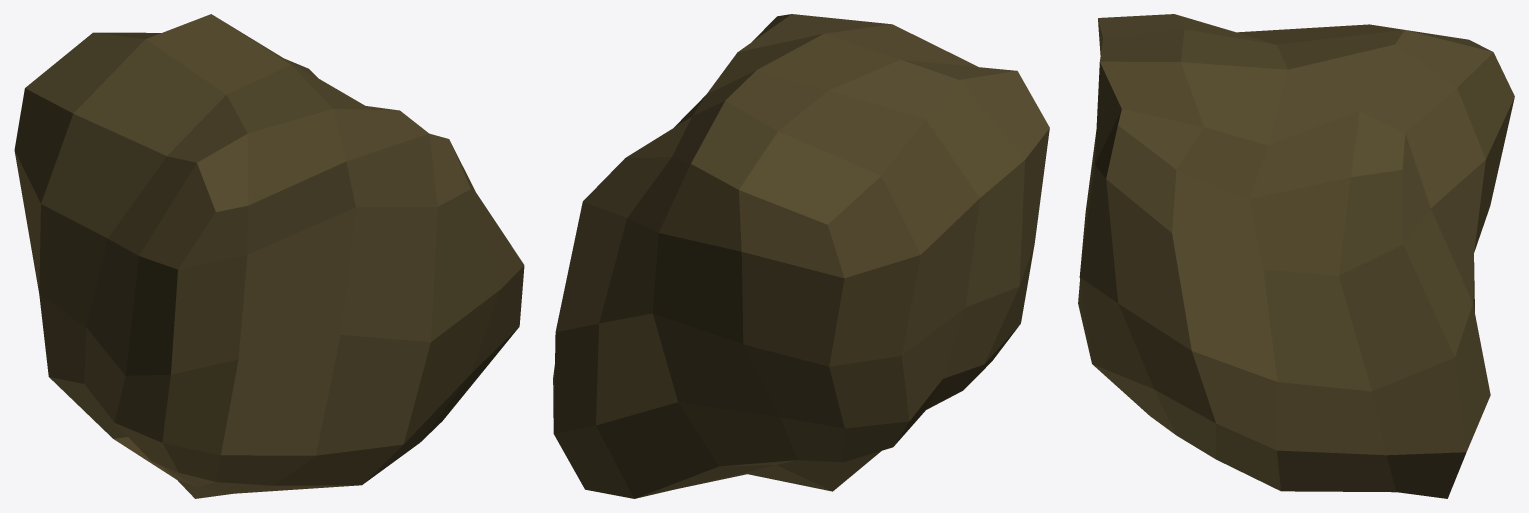
The model's file is BlackHole.Piece.03.fbx.
3 views of the same model, side by side, from view 1: azimuth 30°, elevation 25°; view 2: azimuth 150°, elevation 25°; view 3: azimuth 270°, elevation 25° (orthographic). The views are drawn at different scales.
Visible parts, largest first — view 1: BH.Piece.03; view 2: BH.Piece.03; view 3: BH.Piece.03.
Boxes of the visible parts, left/top/right/bottom form: BH.Piece.03: left=14, top=14, right=524, bottom=498; BH.Piece.03: left=553, top=14, right=1049, bottom=498; BH.Piece.03: left=1078, top=14, right=1514, bottom=498.
Bounding box in the file's own units: 222 × 224 × 215.
